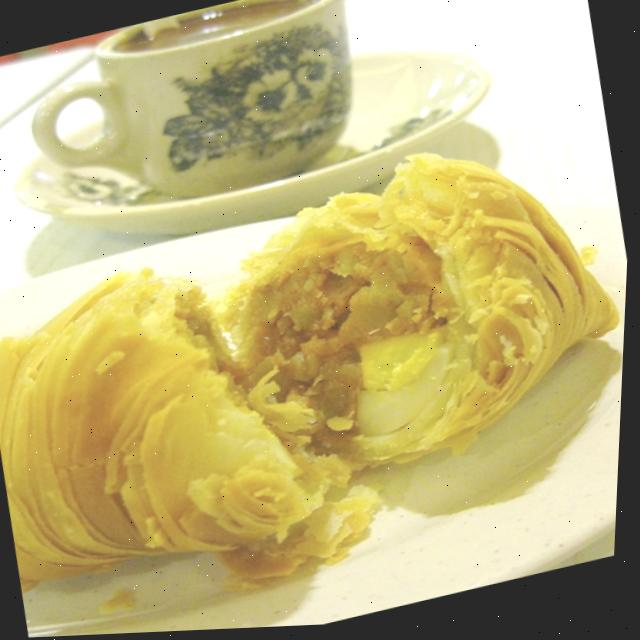炸货点心: (0, 82, 636, 638)
